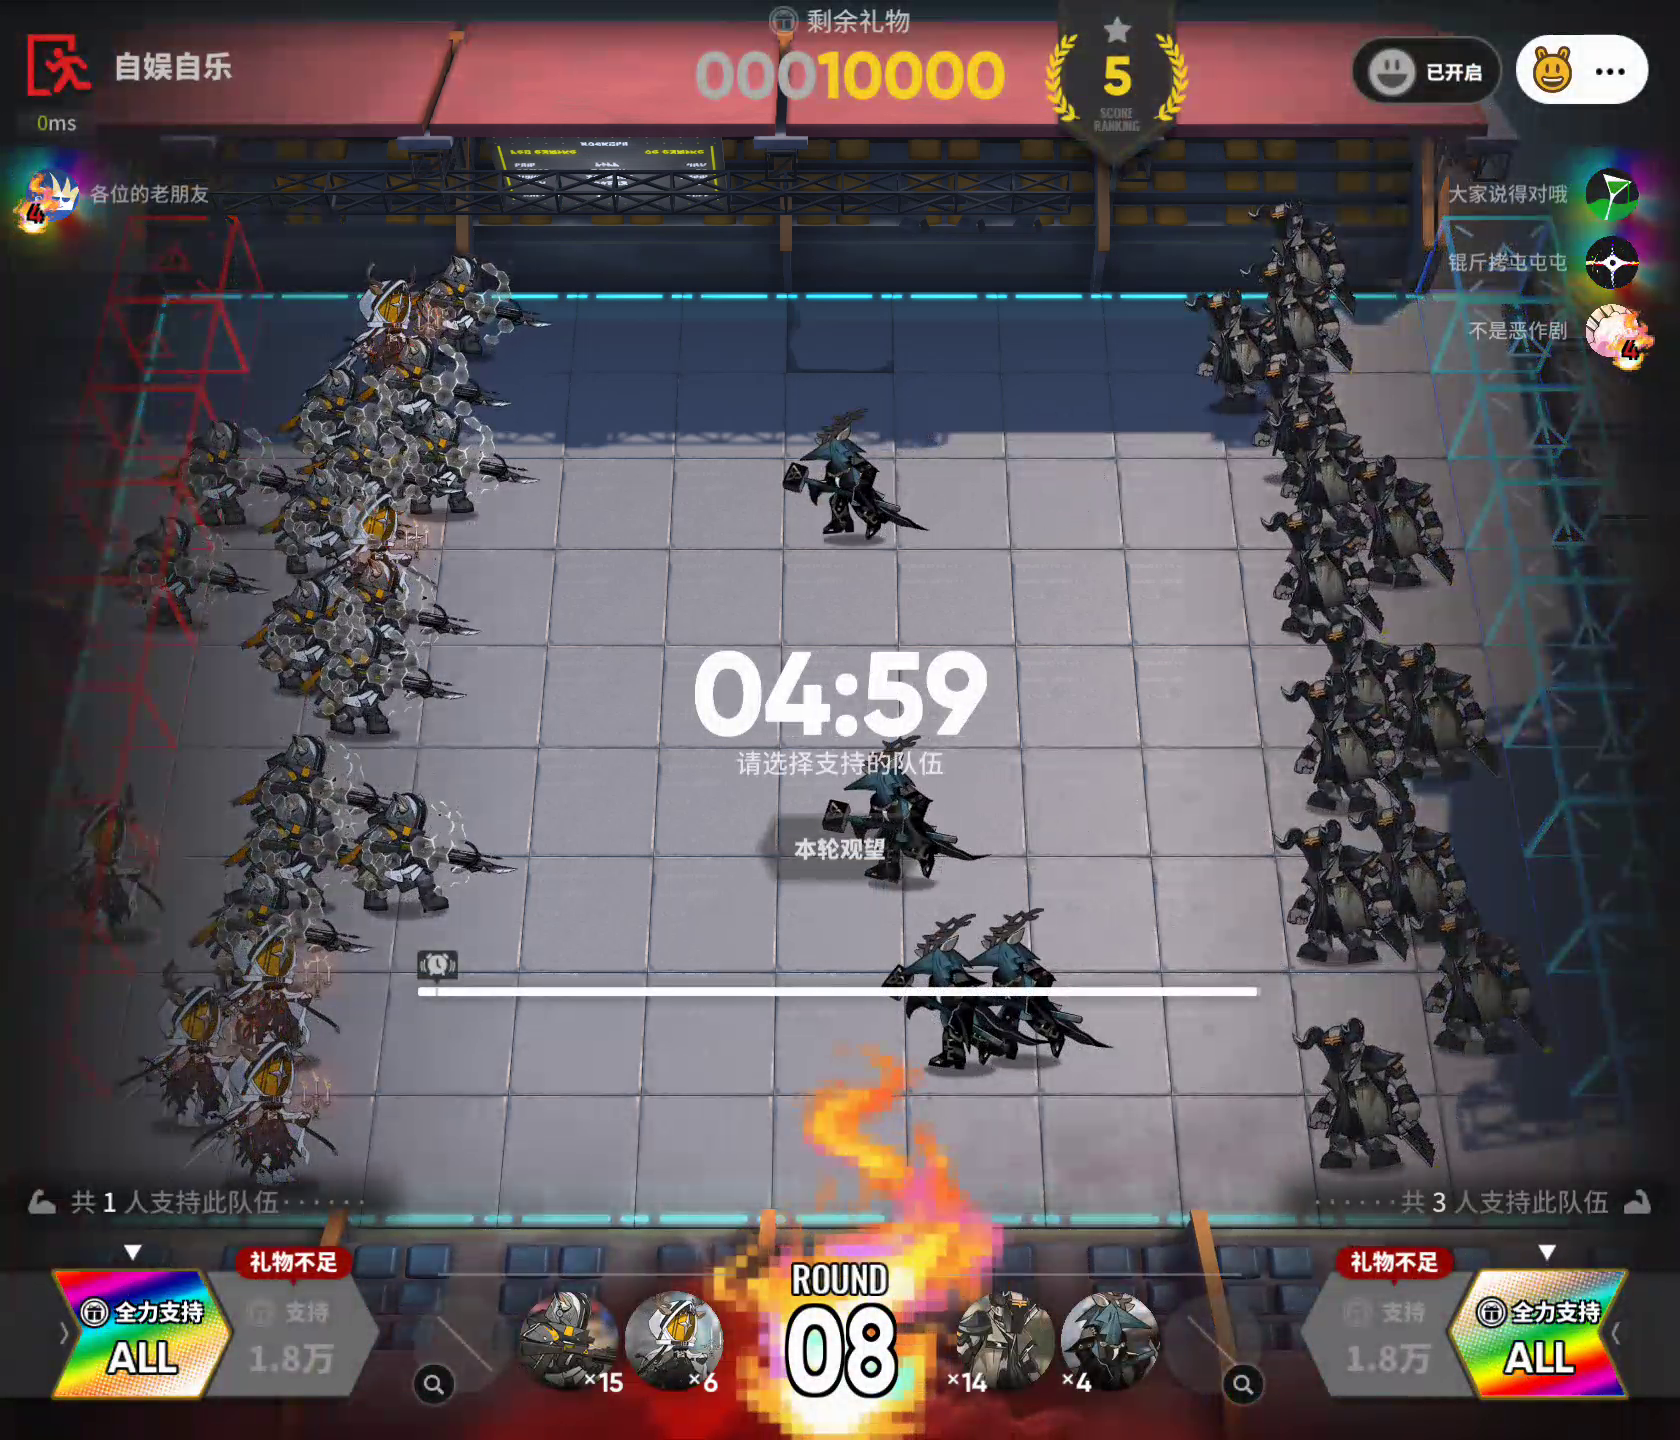保鲜膜骑士: (196, 867, 374, 1000), (341, 789, 526, 917), (240, 570, 401, 706), (226, 719, 394, 841), (101, 517, 270, 629), (301, 626, 464, 736), (159, 411, 300, 536), (221, 794, 360, 914), (396, 409, 546, 517), (416, 246, 560, 354), (330, 546, 479, 649), (271, 360, 394, 464), (379, 329, 519, 419), (261, 467, 361, 586), (514, 1284, 624, 1390), (310, 407, 396, 473)
北方战士: (817, 710, 996, 889), (889, 911, 1046, 1089), (971, 901, 1124, 1069), (773, 403, 926, 553), (1054, 1290, 1170, 1401)
普通的萨卡兹: (1291, 1016, 1444, 1169), (1419, 901, 1559, 1066), (1269, 814, 1419, 966), (1281, 671, 1419, 814), (1331, 454, 1469, 593), (1261, 494, 1386, 641), (1353, 797, 1491, 924), (1379, 644, 1506, 781), (1236, 246, 1353, 370), (1246, 197, 1364, 319), (947, 1274, 1059, 1401), (1183, 283, 1294, 403), (1296, 614, 1413, 724), (1249, 359, 1354, 453), (1281, 409, 1374, 506)
点灯骑士: (113, 950, 253, 1137), (214, 1023, 349, 1184), (39, 776, 170, 931), (211, 916, 334, 1066), (327, 481, 439, 593), (629, 1286, 730, 1391), (343, 264, 439, 367)
